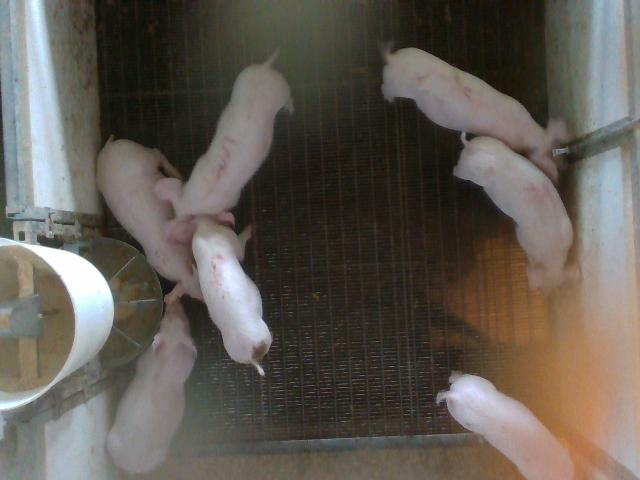pig-3: (156, 50, 294, 217)
pig-4: (454, 132, 580, 294)
pig-5: (164, 211, 272, 374)
